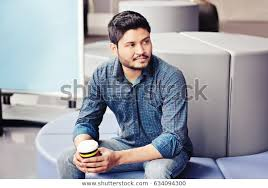Indian_Male: (119, 22, 152, 70)
